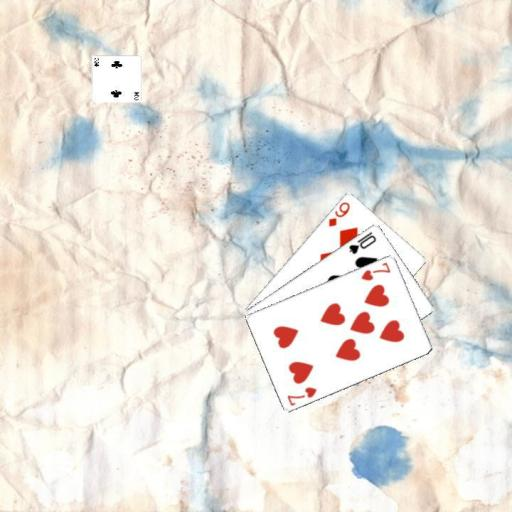10S: (346, 229, 378, 256)
7H: (284, 384, 319, 408), (358, 259, 393, 282)
9D: (325, 199, 351, 228)
